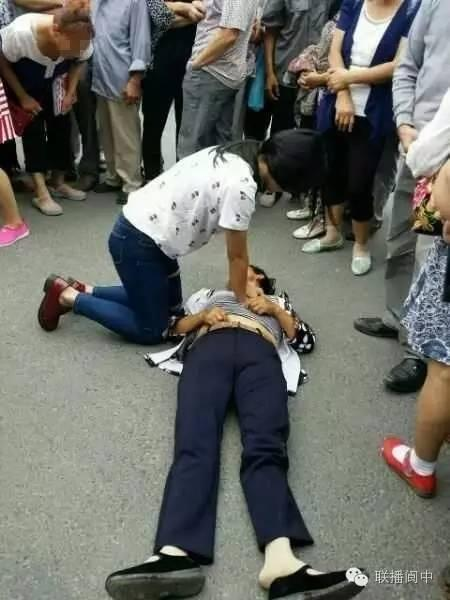10+: (1, 1, 447, 498)
down: (109, 258, 374, 597)
